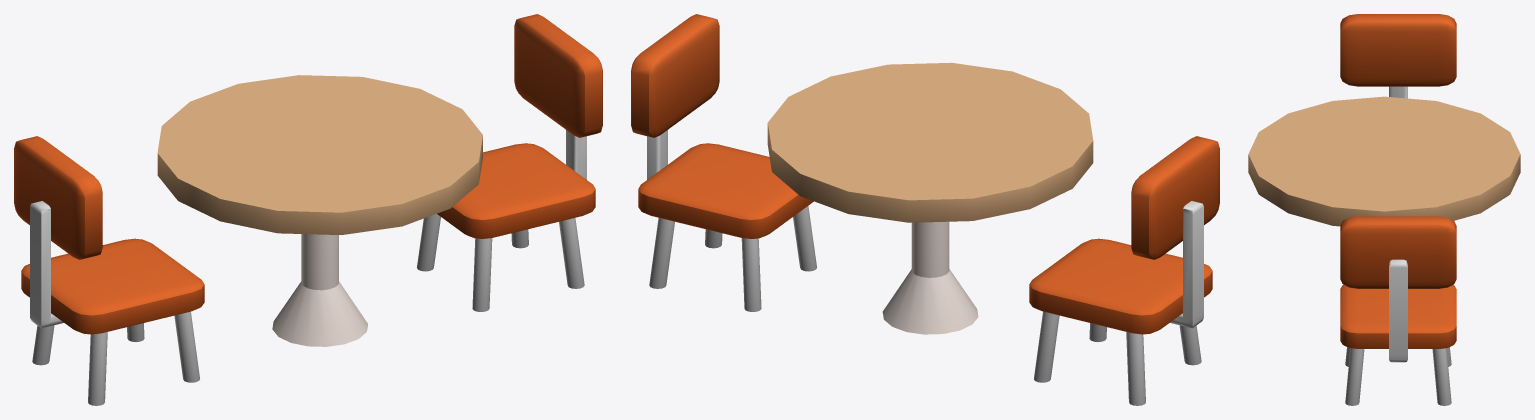
The model's file is Table_Chair.fbx.
3 views of the same model, side by side, from view 1: azimuth 30°, elevation 25°; view 2: azimuth 150°, elevation 25°; view 3: azimuth 270°, elevation 25° (orthographic). The views are drawn at different scales.
Parts seen in each view (by area): view 1: Table, Chair, Chair.001; view 2: Table, Chair, Chair.001; view 3: Table, Chair.001, Chair.
Part boxes in pixels (box(x1,y1,x2,y2)): Table: box(157, 75, 482, 346); Chair: box(14, 136, 204, 405); Chair.001: box(417, 14, 602, 311); Table: box(767, 62, 1093, 334); Chair: box(1029, 136, 1219, 405); Chair.001: box(631, 14, 816, 311); Table: box(1248, 96, 1520, 226); Chair.001: box(1340, 216, 1456, 405); Chair: box(1340, 14, 1456, 98).
Size of the model in its own units: 2.78 by 1.1 by 1.45.
